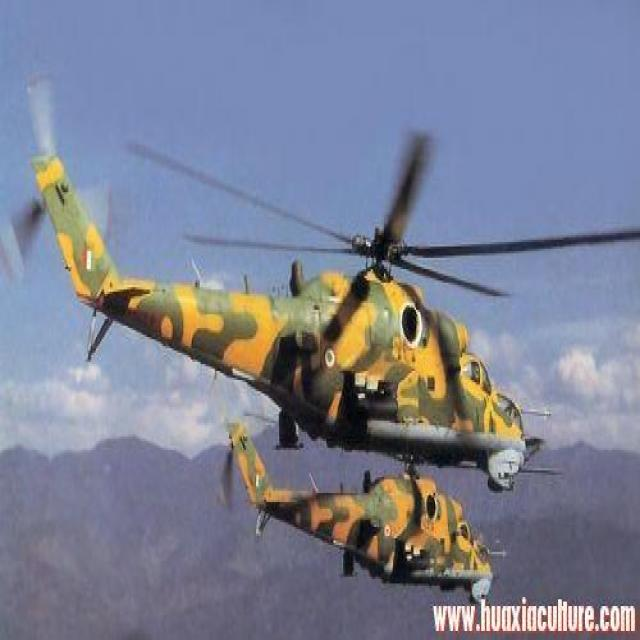MIL_HELO: (5, 57, 640, 504), (205, 398, 522, 602)
